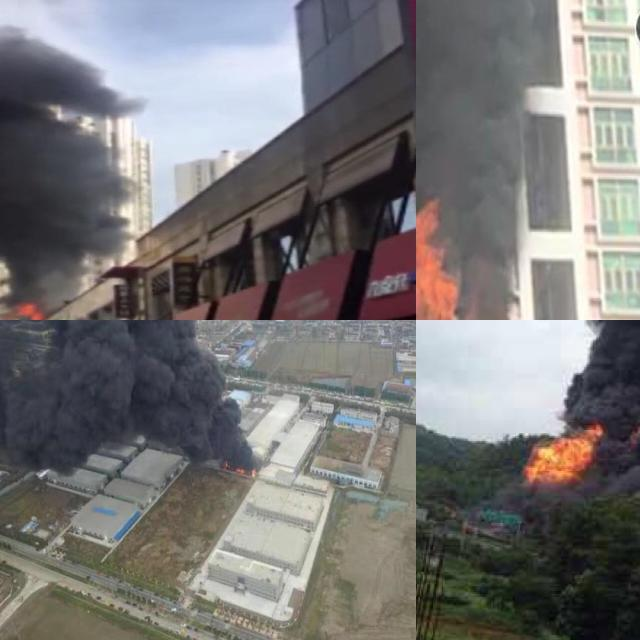fire: (416, 197, 457, 320), (523, 420, 600, 479), (9, 300, 50, 320), (224, 462, 256, 478)
smoke: (0, 0, 150, 304), (0, 320, 252, 466), (416, 0, 532, 299), (506, 320, 640, 507)
